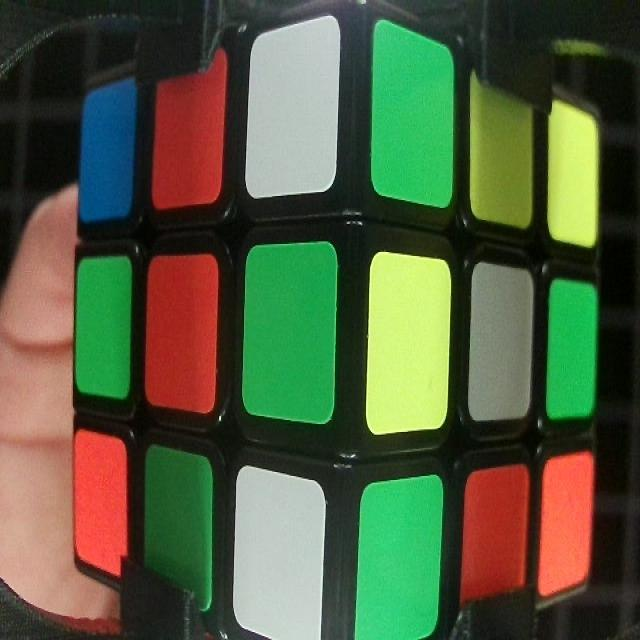b: (81, 88, 131, 217)
g: (370, 20, 454, 212), (246, 246, 337, 419), (352, 477, 444, 640), (145, 447, 211, 615), (77, 256, 131, 398), (553, 280, 596, 414)
o: (147, 256, 216, 409), (152, 64, 222, 202), (468, 472, 529, 608), (76, 430, 132, 571), (544, 454, 592, 590)
w: (231, 461, 330, 640), (247, 15, 340, 190), (471, 264, 531, 418)
y: (372, 251, 451, 428), (468, 66, 533, 224), (549, 98, 599, 243)
